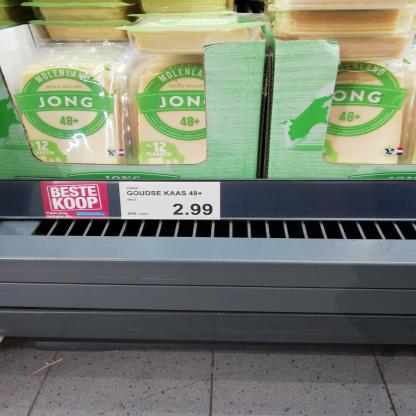prtg: (120, 183, 221, 221)
